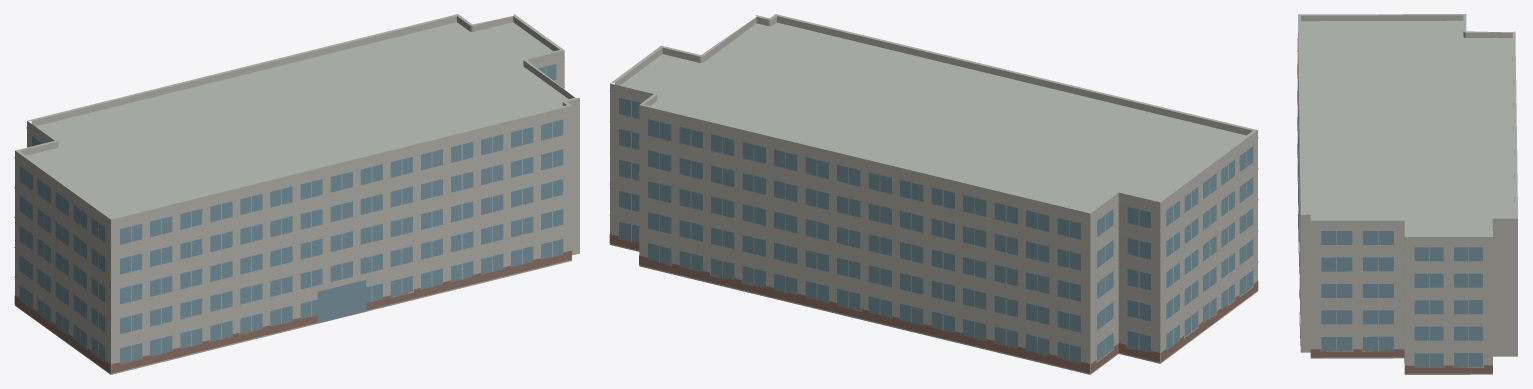
The model's file is public-43949b83-f768-4195-bfc3-568412fb993c.glb.
3 views of the same model, side by side, from view 1: azimuth 30°, elevation 25°; view 2: azimuth 150°, elevation 25°; view 3: azimuth 270°, elevation 25° (orthographic). The views are drawn at different scales.
Visible parts, largest first — view 1: public-43949b83-f768-4195-bfc3-568412fb993c; view 2: public-43949b83-f768-4195-bfc3-568412fb993c; view 3: public-43949b83-f768-4195-bfc3-568412fb993c.
Boxes of the visible parts, box(x1,y1,x2,y2) form: public-43949b83-f768-4195-bfc3-568412fb993c: box(14, 14, 579, 374); public-43949b83-f768-4195-bfc3-568412fb993c: box(609, 14, 1258, 374); public-43949b83-f768-4195-bfc3-568412fb993c: box(1297, 14, 1517, 374).
Bounding box in the file's own units: 53.06 × 15.25 × 23.22.
